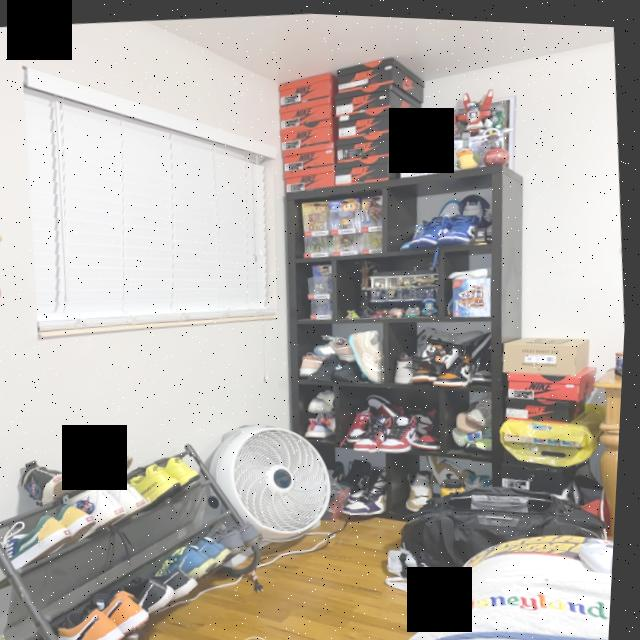shoe: (0, 498, 107, 578), (16, 584, 159, 640), (71, 473, 157, 536), (154, 531, 240, 581), (131, 451, 208, 505), (122, 562, 207, 610), (77, 430, 141, 487), (412, 334, 478, 388), (23, 455, 86, 508), (409, 208, 482, 250), (344, 459, 398, 513), (348, 325, 392, 381), (207, 516, 272, 553), (428, 447, 479, 488), (355, 409, 398, 451), (380, 409, 425, 449), (409, 461, 441, 511)
